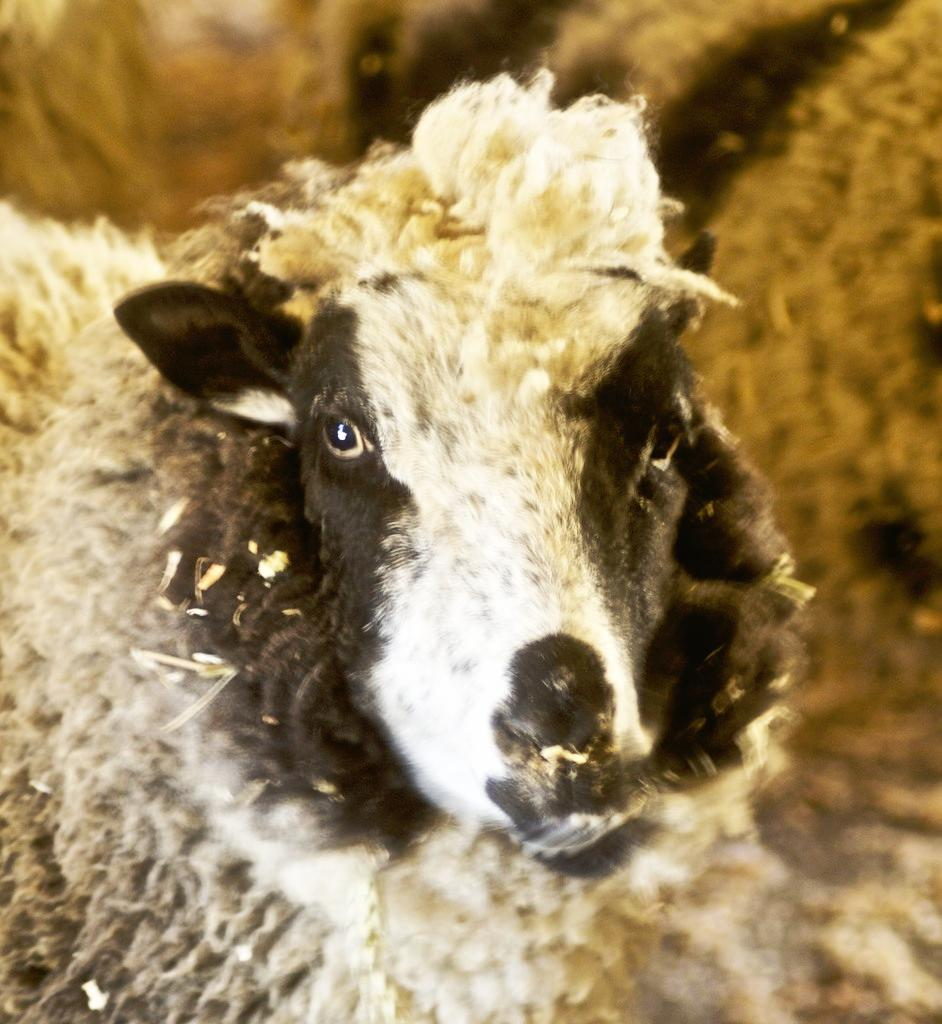Sheep: (30, 19, 839, 993)
